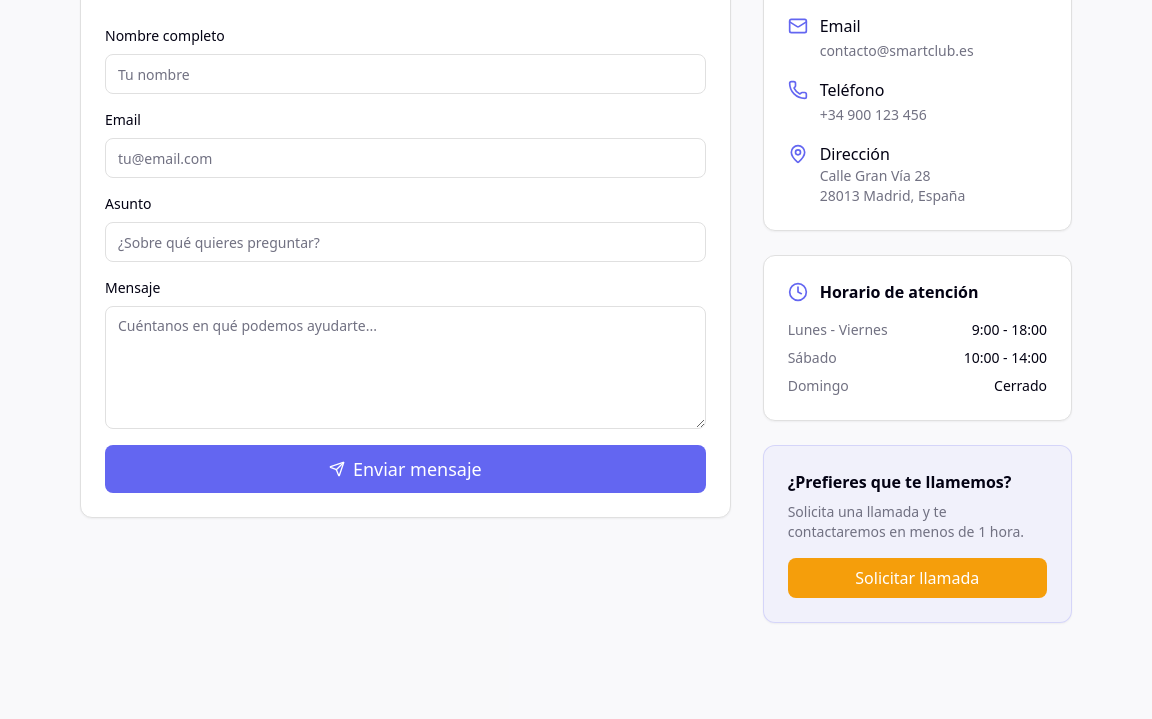
ContactPage › shows validation errors on empty submit
(page scrolled)
Click the button "Enviar mensaje" at [405, 469], box [105,445,706,493]
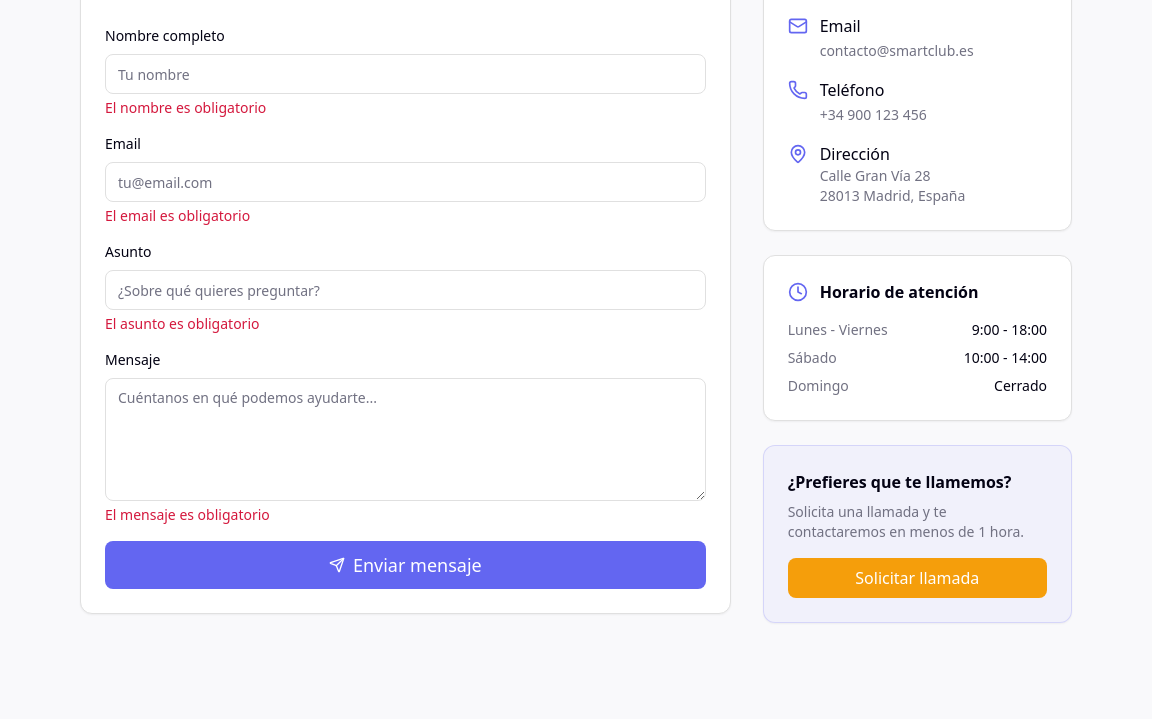
Expected: the text "El nombre es obligatorio" is shown, [105,98,266,117]
